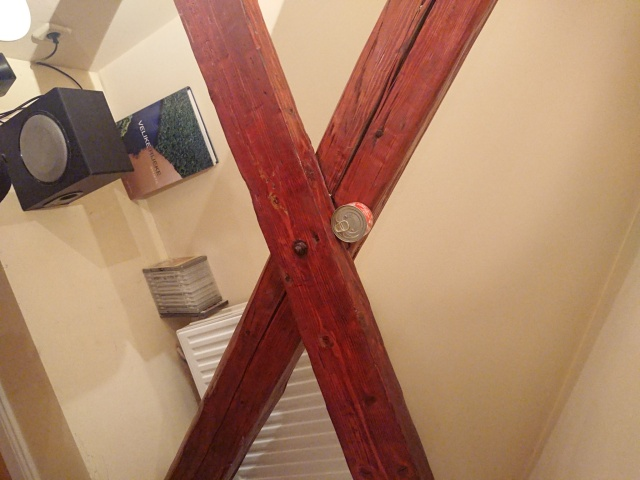Podravka Luncheon Meat 150g: (329, 199, 375, 245)
